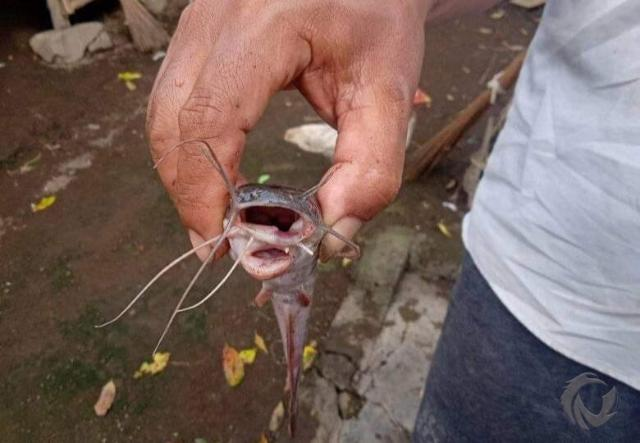Mulut: (220, 184, 324, 262)
Sirip Perut: (243, 274, 321, 314)
